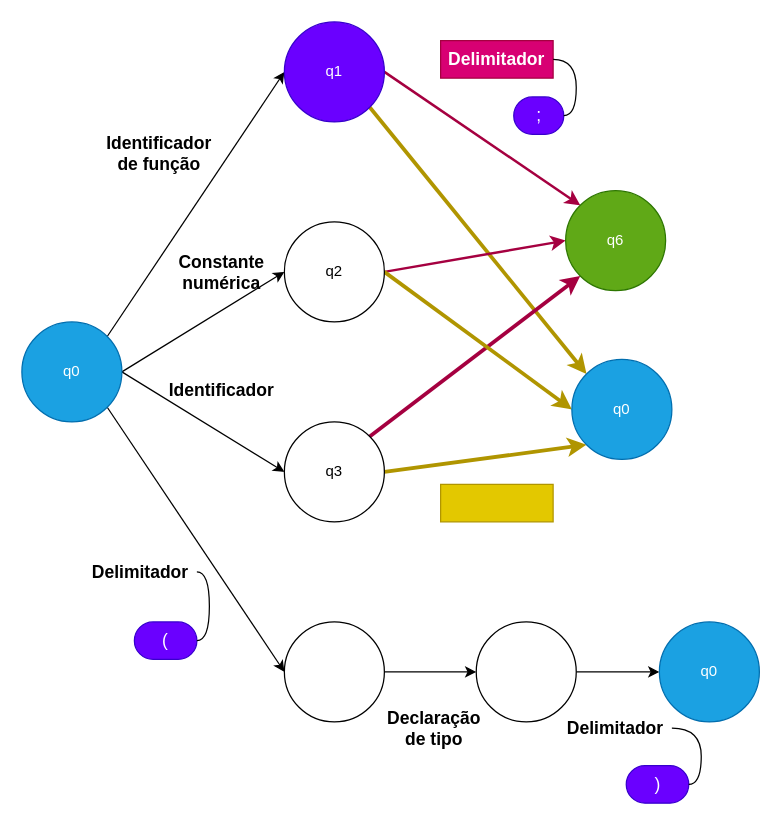
The diagram is 781 pixels wide and 825 high, and some of its shapes have lost their labels. Here are the shapes that lost their labels. From the top down, the centre of each, then its label:
At (496,502): "Operador aritmético".
At (333,671): "q4".
At (525,671): "q5".
